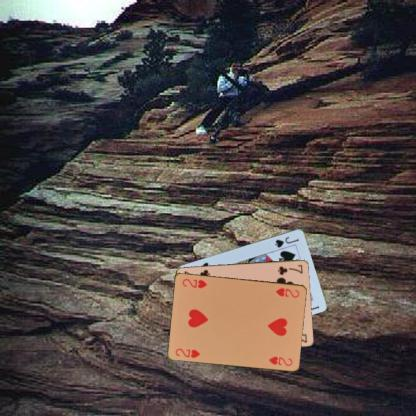2h: (172, 345, 202, 359), (274, 285, 300, 299)
7c: (275, 262, 304, 276)
Js: (272, 234, 301, 248)
